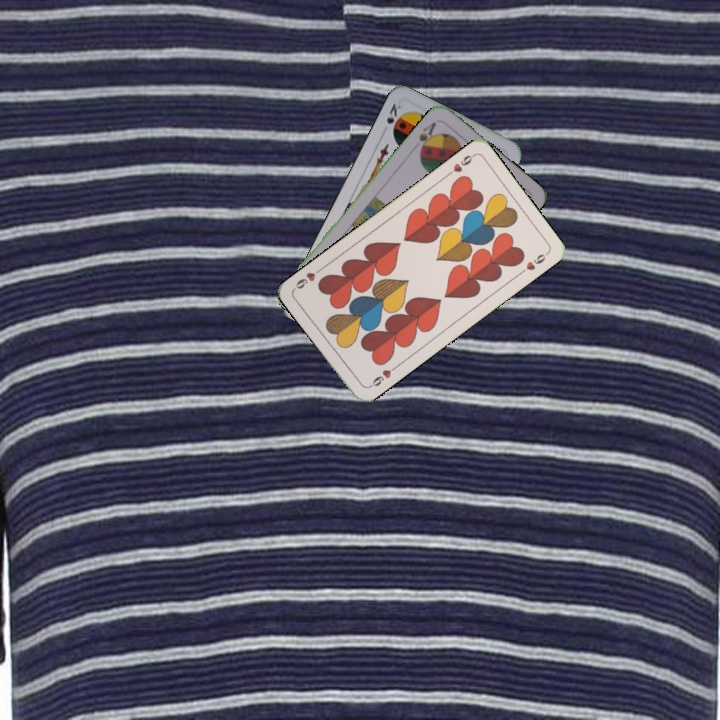H9: (442, 151, 477, 179), (365, 362, 400, 390)
SA: (415, 118, 439, 155)
SK: (382, 99, 404, 126)
